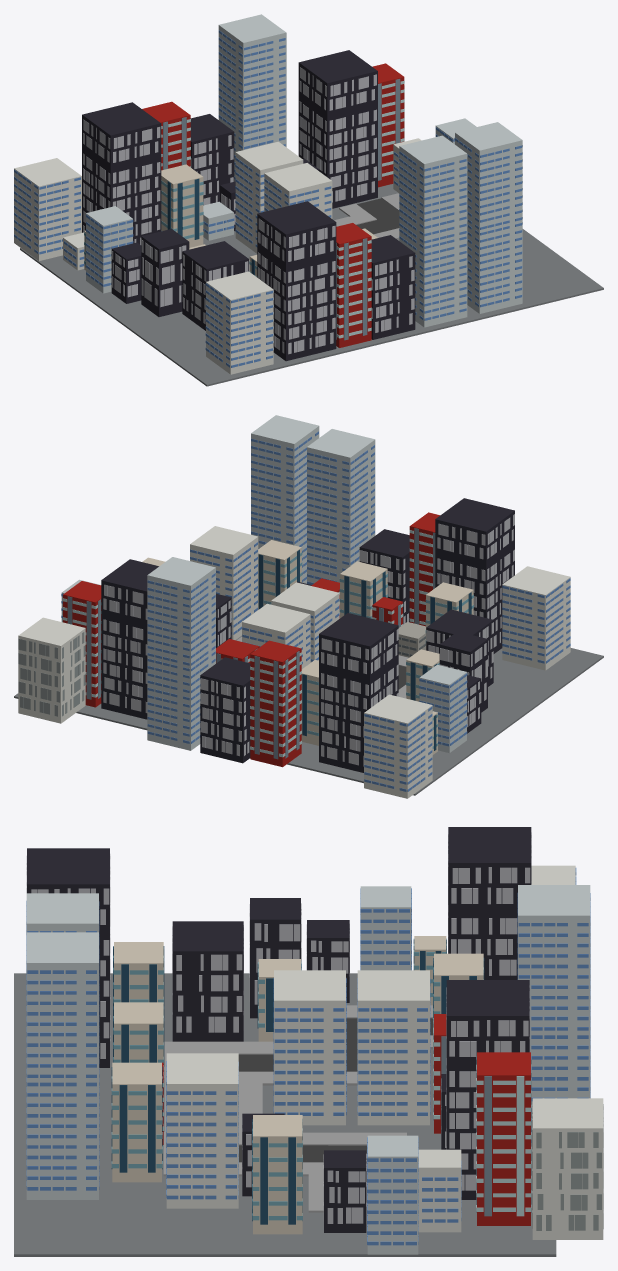
The model's file is level1 base color.fbx.
3 renders of one model, top to bottom at view 1: azimuth 30°, elevation 25°; view 2: azimuth 150°, elevation 25°; view 3: azimuth 270°, elevation 25°, orthographic. The views are drawn at different scales.
Parts seen in each view (by area): view 1: building; view 2: building; view 3: building.
Part boxes in pixels (left/top/right/bottom): building: left=14, top=14, right=603, bottom=386; building: left=14, top=415, right=603, bottom=798; building: left=14, top=827, right=603, bottom=1256.
Bounding box in the file's own units: 35346 × 14010 × 31278.
